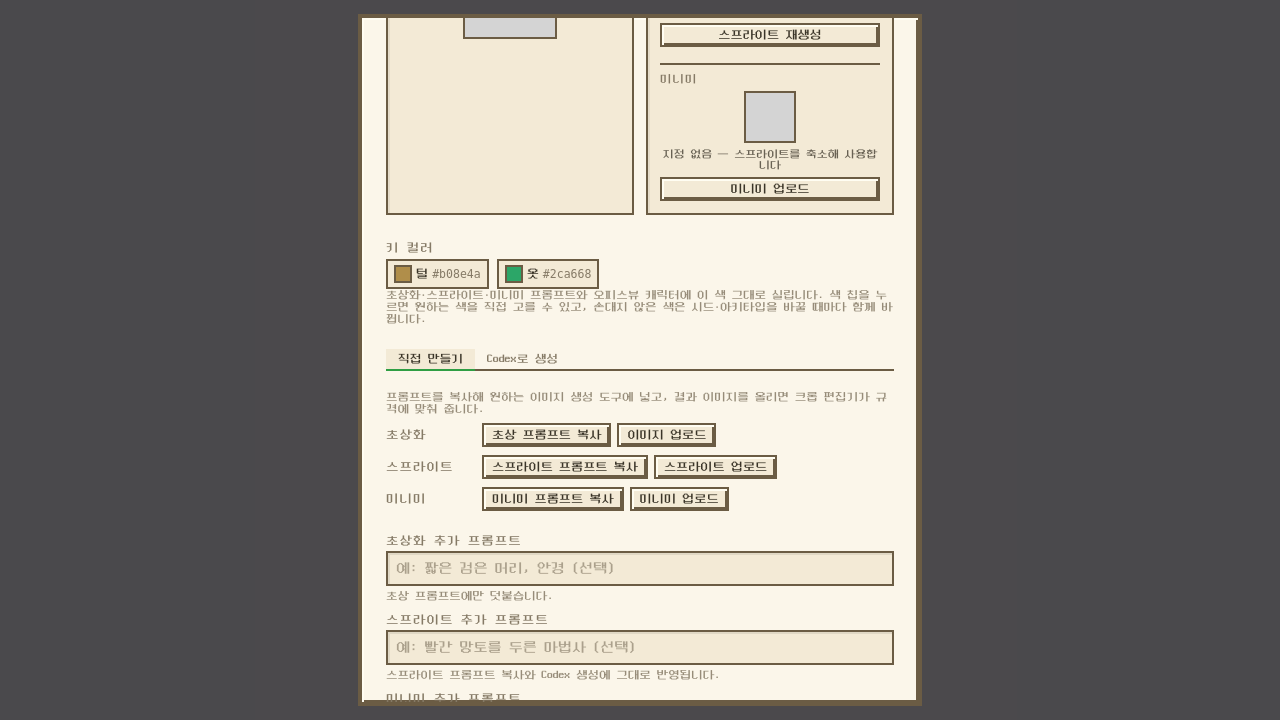
Codex 생성 버튼 › 실패하면 코드별 캡션을 표시하고 버튼이 복구된다
(page scrolled)
Click the tab "Codex로 생성".
click(523, 360)  # box 475,349 -> 570,371
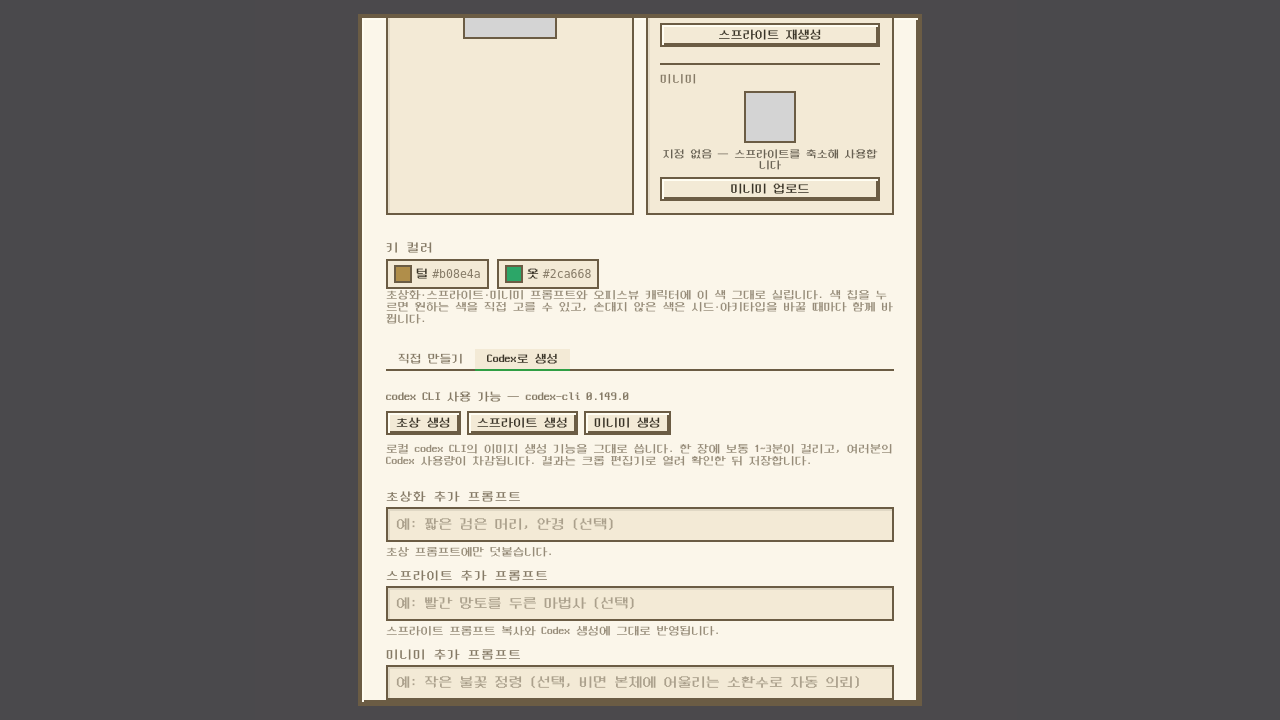
Now the text "codex CLI 사용 가능 — codex-cli 0.149.0" is shown, box 386,391 -> 629,403
Click the button "스프라이트 생성".
click(522, 423)  # box 467,411 -> 578,435
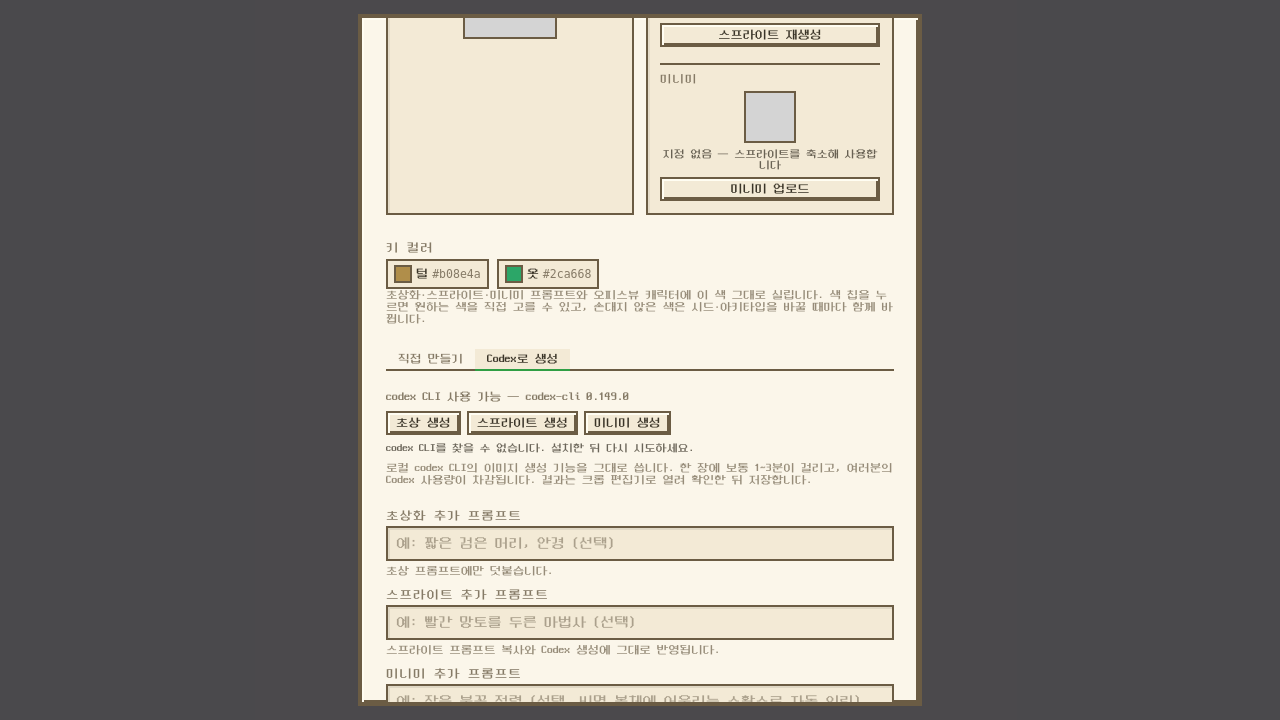
Now the button "스프라이트 생성" is enabled, box 467,411 -> 578,435
Now the text "codex CLI를 찾을 수 없습니다. 설치한 뒤 다시 시도하세요." is shown, box 386,443 -> 694,454
